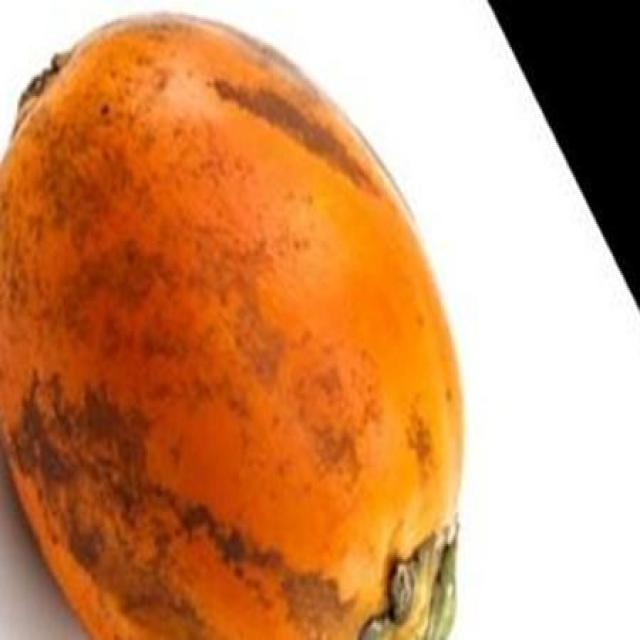good: (0, 13, 465, 638)
